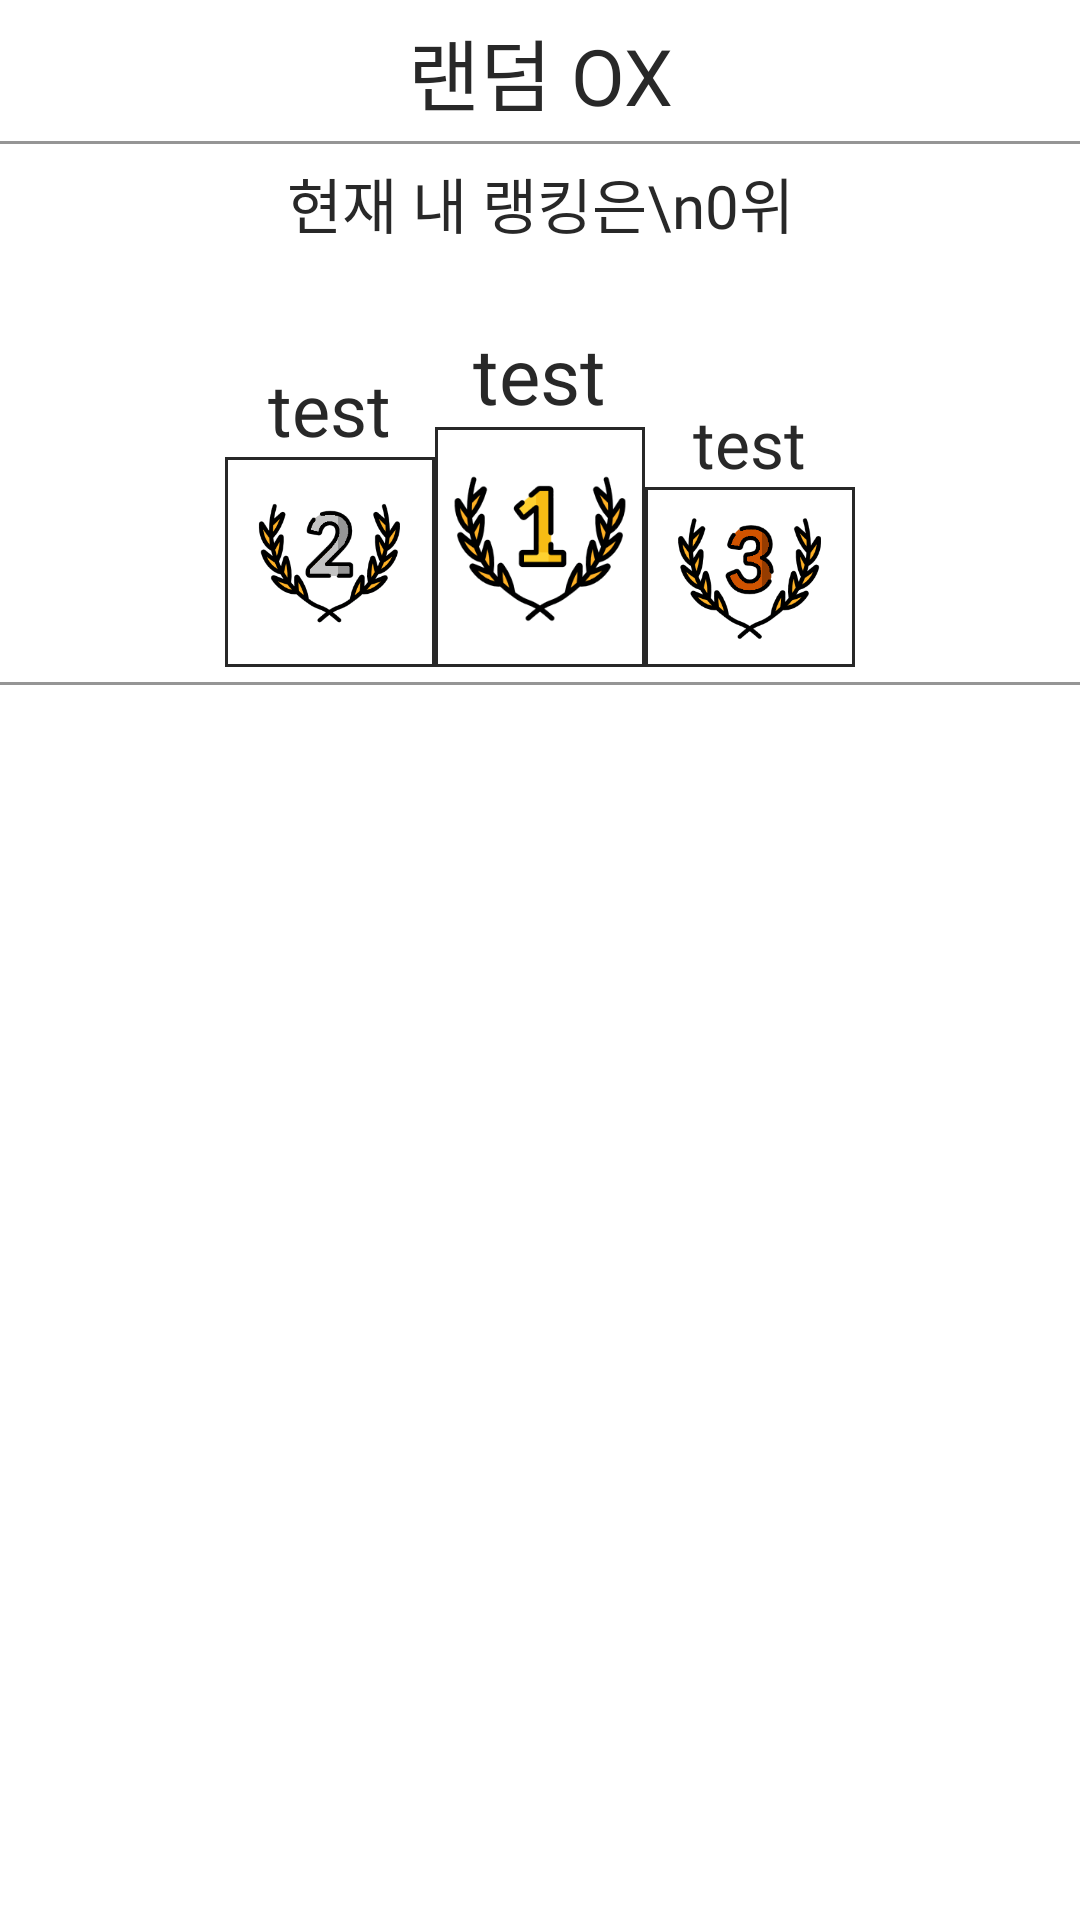

Locate icon controls on the screen. Image size 1080*1920, boxes as (x1, y1, x2, y2).
rank: (454, 476, 626, 621), (259, 504, 400, 623), (678, 518, 821, 639)
